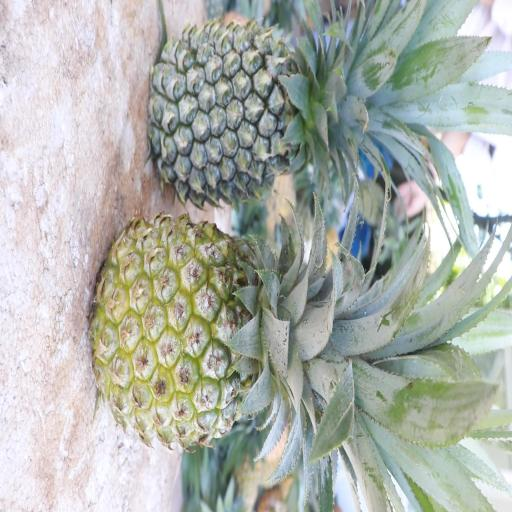------------------------------: (87, 210, 380, 456)
